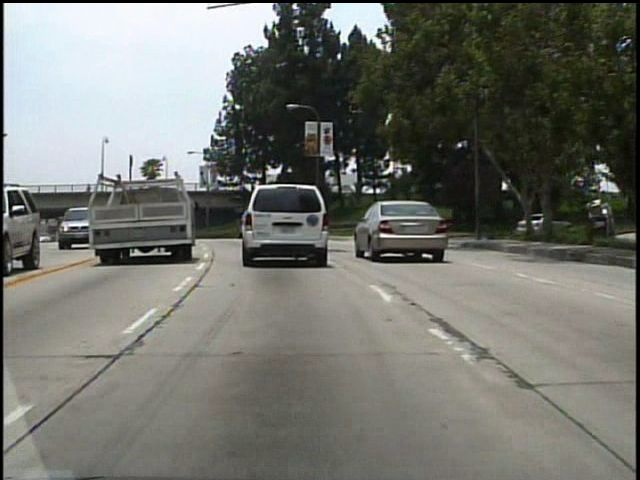person: (83, 178, 93, 198)
